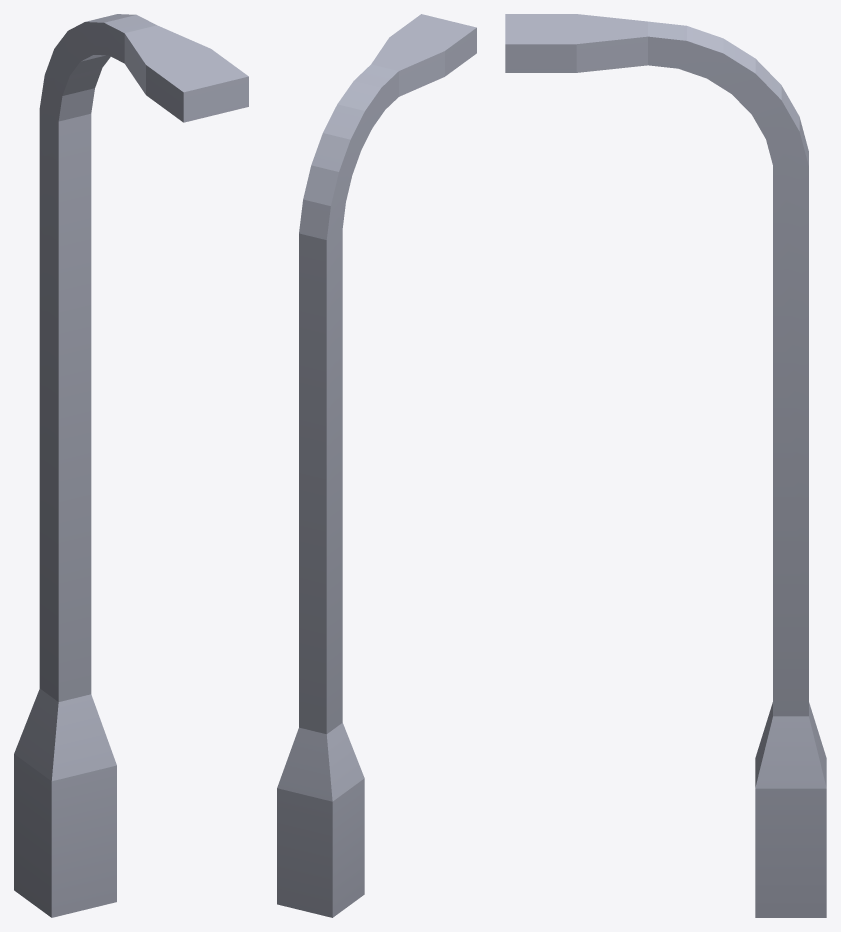
Rendered from lamp_post.glb.
3 renders of one model, left to right at view 1: azimuth 30°, elevation 25°; view 2: azimuth 150°, elevation 25°; view 3: azimuth 270°, elevation 25°, orthographic. The views are drawn at different scales.
Visible parts, largest first — view 1: geometry_0; view 2: geometry_0; view 3: geometry_0.
Boxes of the visible parts, x1,y1,x2,y2 form: geometry_0: [14, 14, 248, 917]; geometry_0: [277, 14, 476, 917]; geometry_0: [505, 14, 826, 917].
Size of the model in its own units: 0.3704 by 5 by 1.67.
